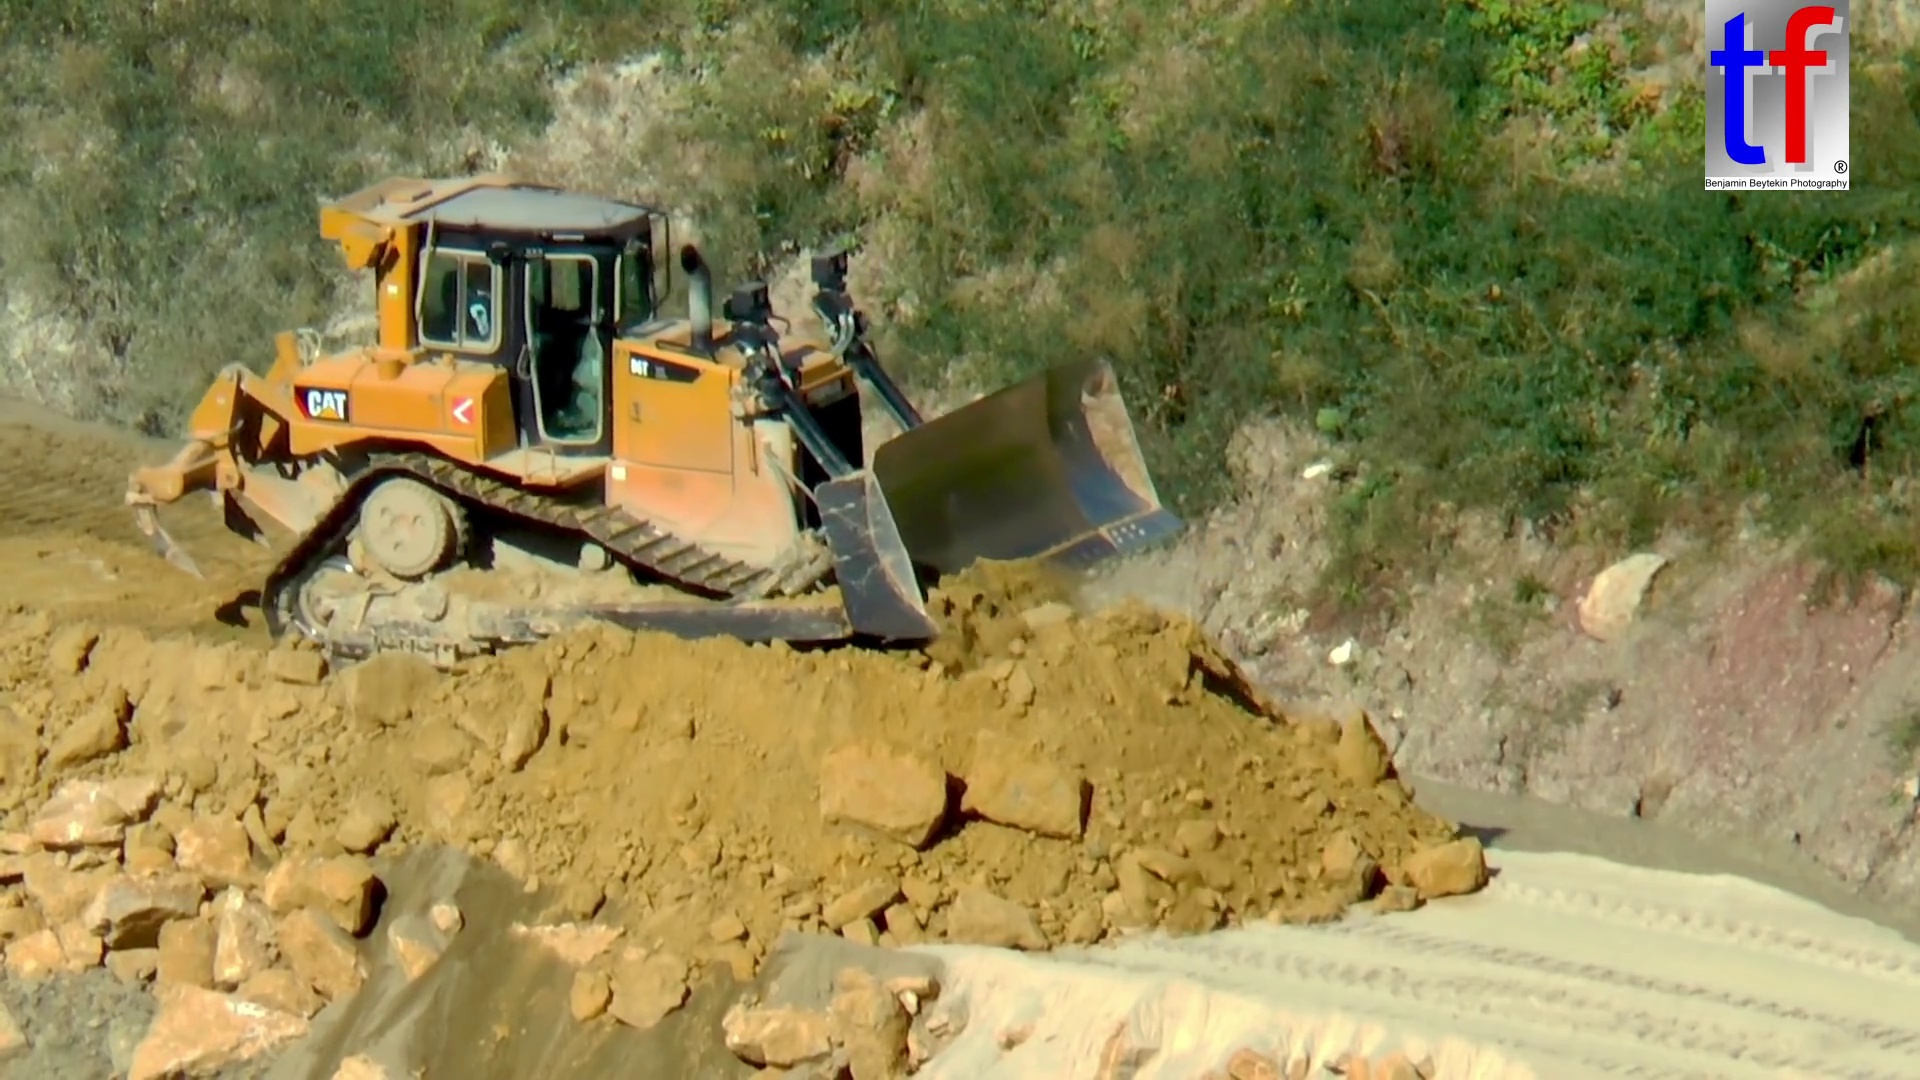bulldozer: (123, 182, 1180, 655)
